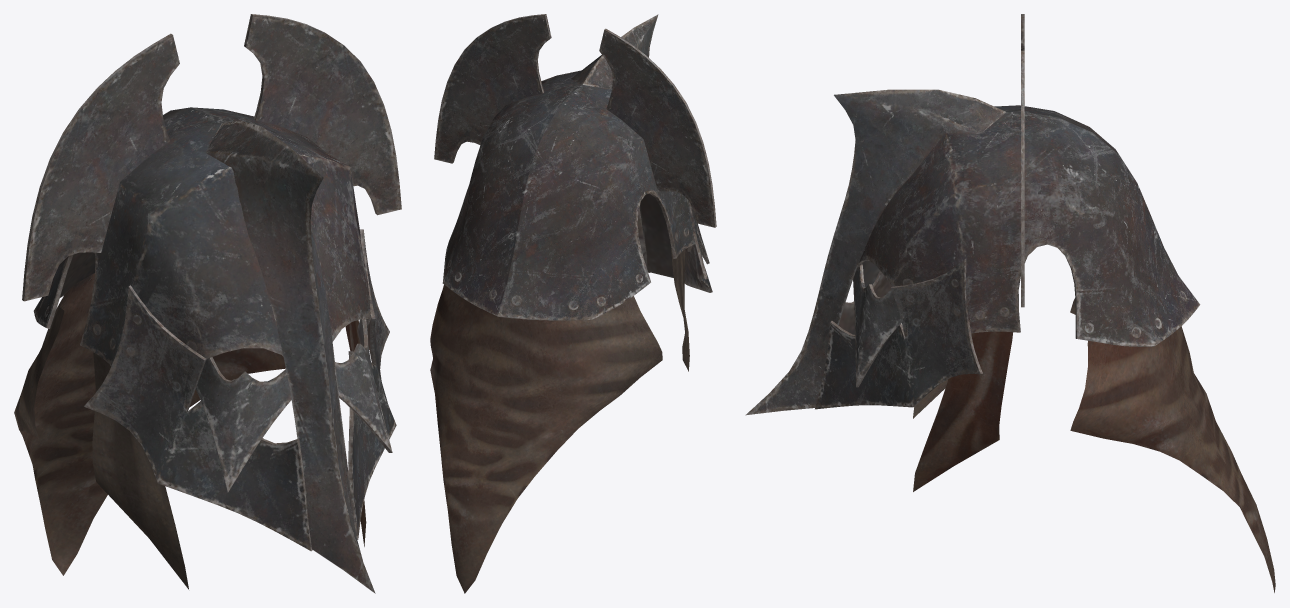
The model's file is sk_dg_uruk_helmet_lord_d.fbx.
The picture shows the model from 3 angles, left to right: view 1: azimuth 30°, elevation 25°; view 2: azimuth 150°, elevation 25°; view 3: azimuth 270°, elevation 25°; orthographic projection. The views are drawn at different scales.
Visible parts, largest first — view 1: sk_dg_uruk_helmet_lord_d; view 2: sk_dg_uruk_helmet_lord_d; view 3: sk_dg_uruk_helmet_lord_d.
Part boxes in pixels (<box>): sk_dg_uruk_helmet_lord_d: <box>14,14,401,593</box>; sk_dg_uruk_helmet_lord_d: <box>430,14,716,593</box>; sk_dg_uruk_helmet_lord_d: <box>745,14,1275,592</box>.
Size of the model in its own units: 0.3252 by 0.4665 by 0.5432.
1 material, 1 textured.
